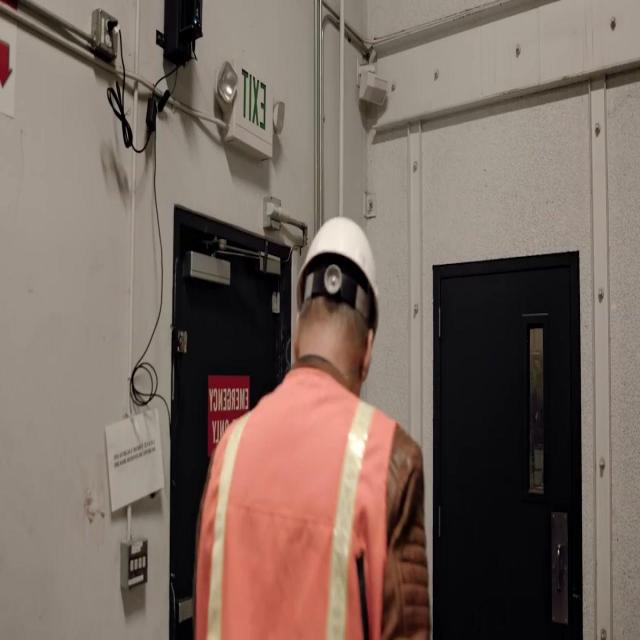Reflective-Jacket: (180, 370, 425, 640)
Safety-Helmet: (282, 201, 395, 350)
